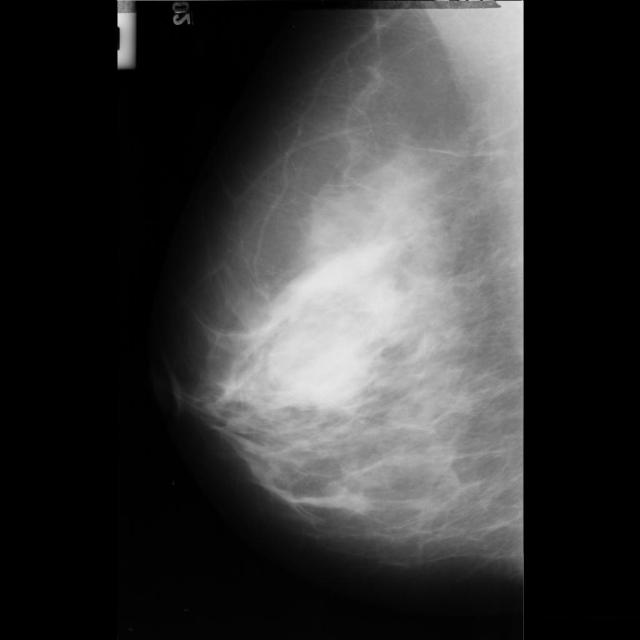tumour: (271, 327, 366, 405)
